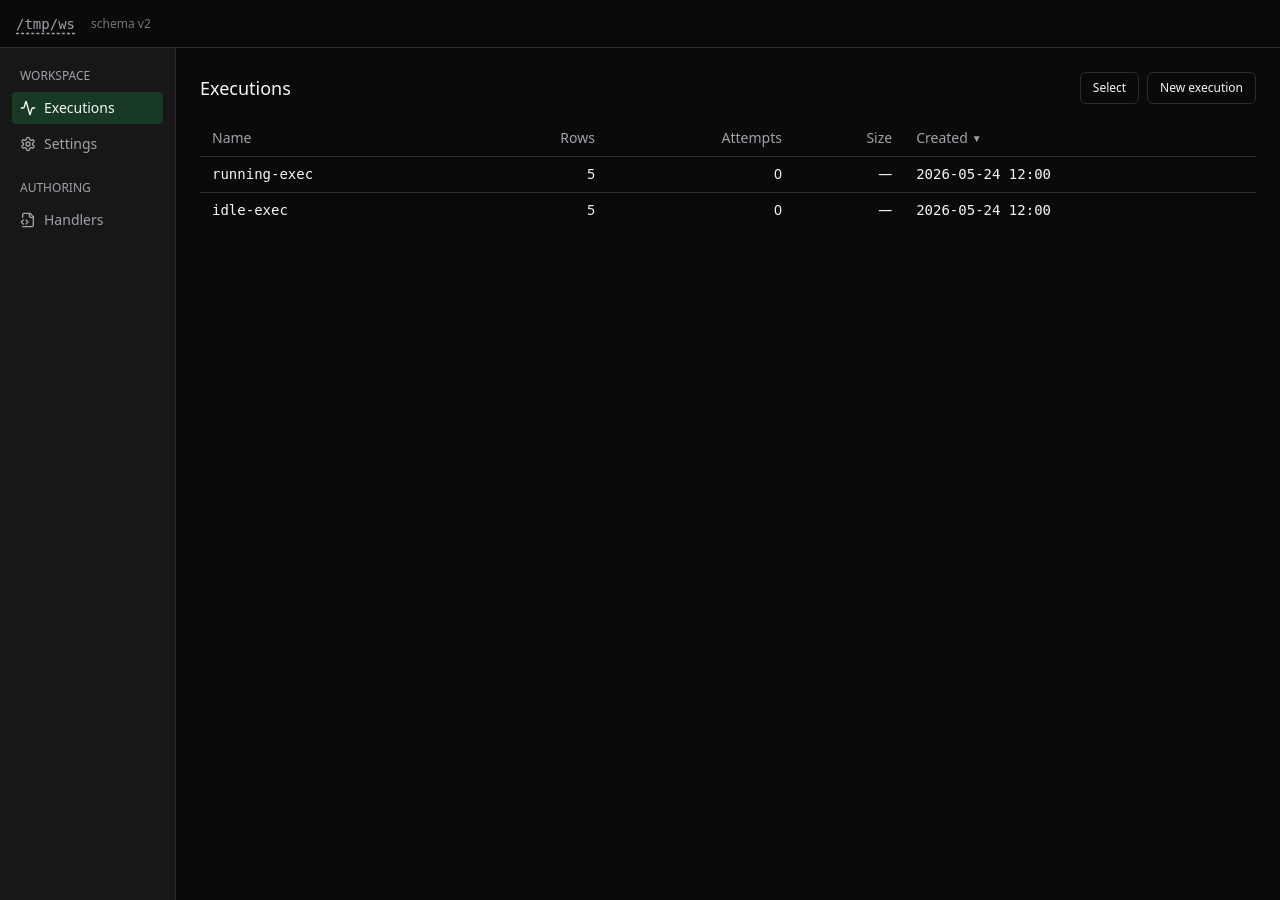
Scenario: ExecList — Select mode › active-run row has a disabled checkbox with tooltip
Expected: the text "running-exec" is shown, [200, 156, 477, 192]
// Enter select mode
Click the button "Select" at (1109, 88), box [1080, 72, 1139, 104]
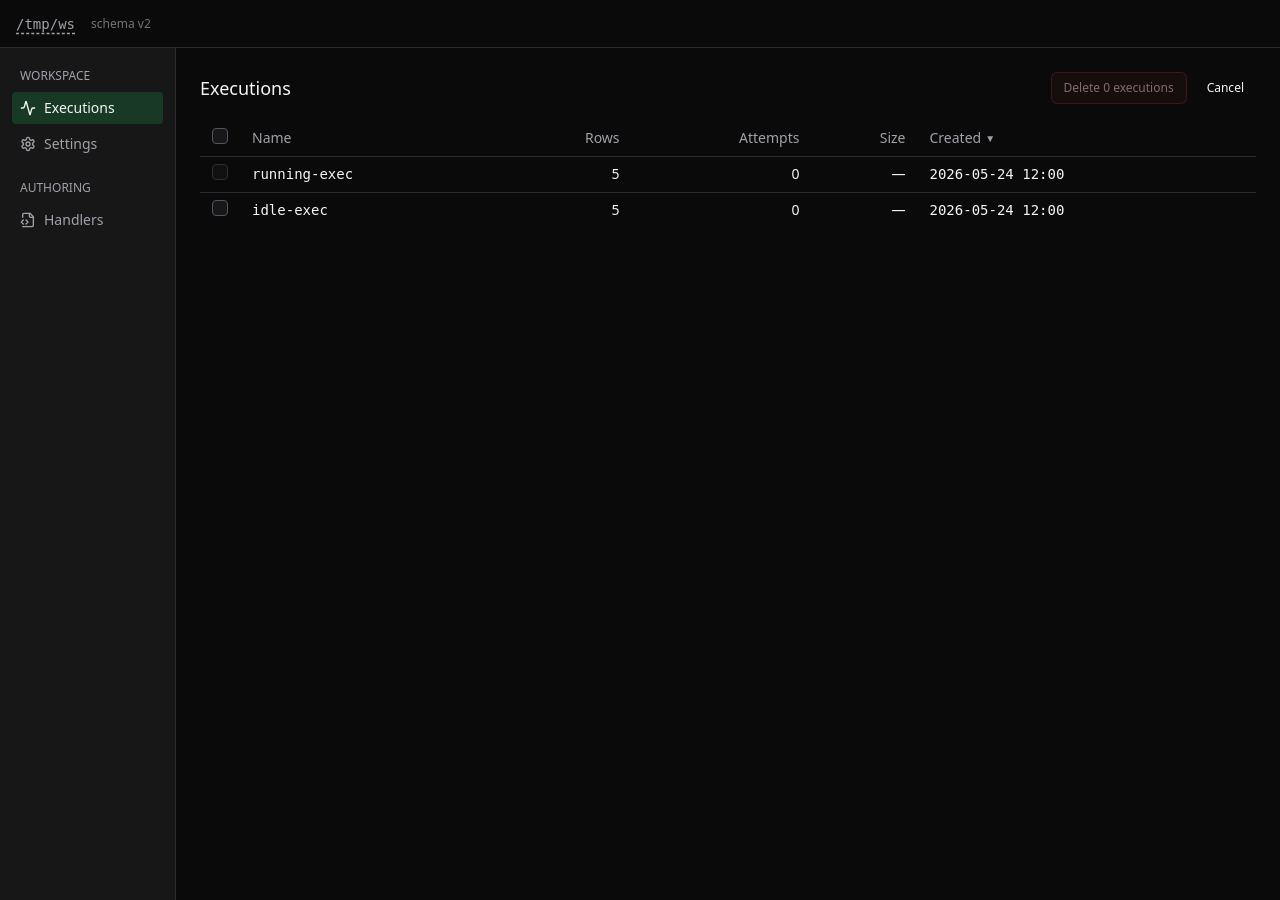
Now the number of checkboxes is 3, box [212, 128, 228, 144]; [212, 164, 228, 180]; [212, 200, 228, 216]
Now the checkbox named "Cancel active run first" is disabled, box [212, 164, 228, 180]
Now the checkbox named "Select idle-exec" is enabled, box [212, 200, 228, 216]
